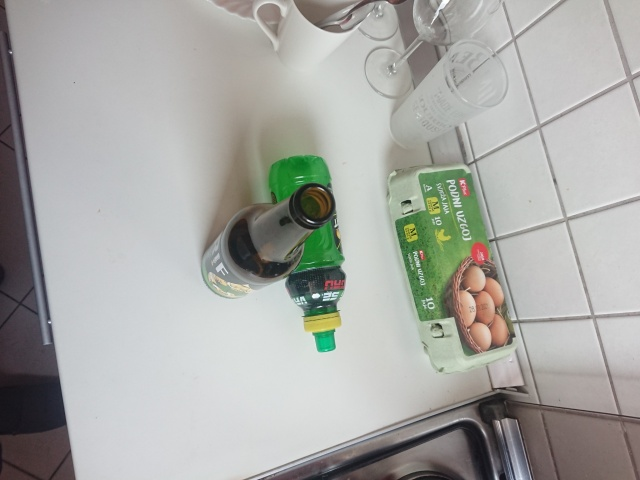Vindi Iso Sport Lemon-Grapefruit 500mL: (265, 152, 349, 355)
